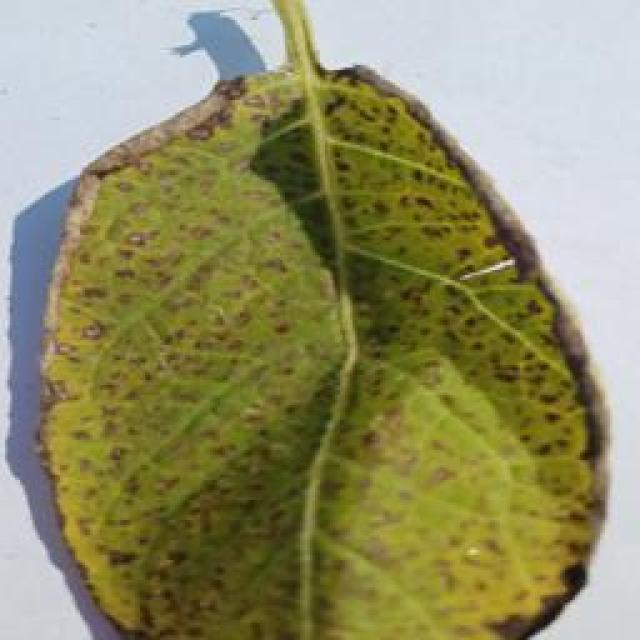Potato_Early_Blight: (30, 55, 622, 640)
